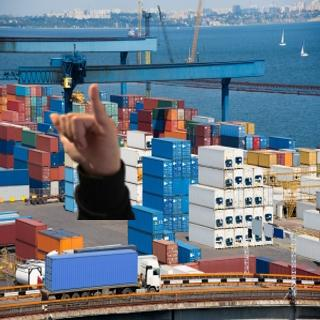HAVE: (43, 80, 127, 176)
